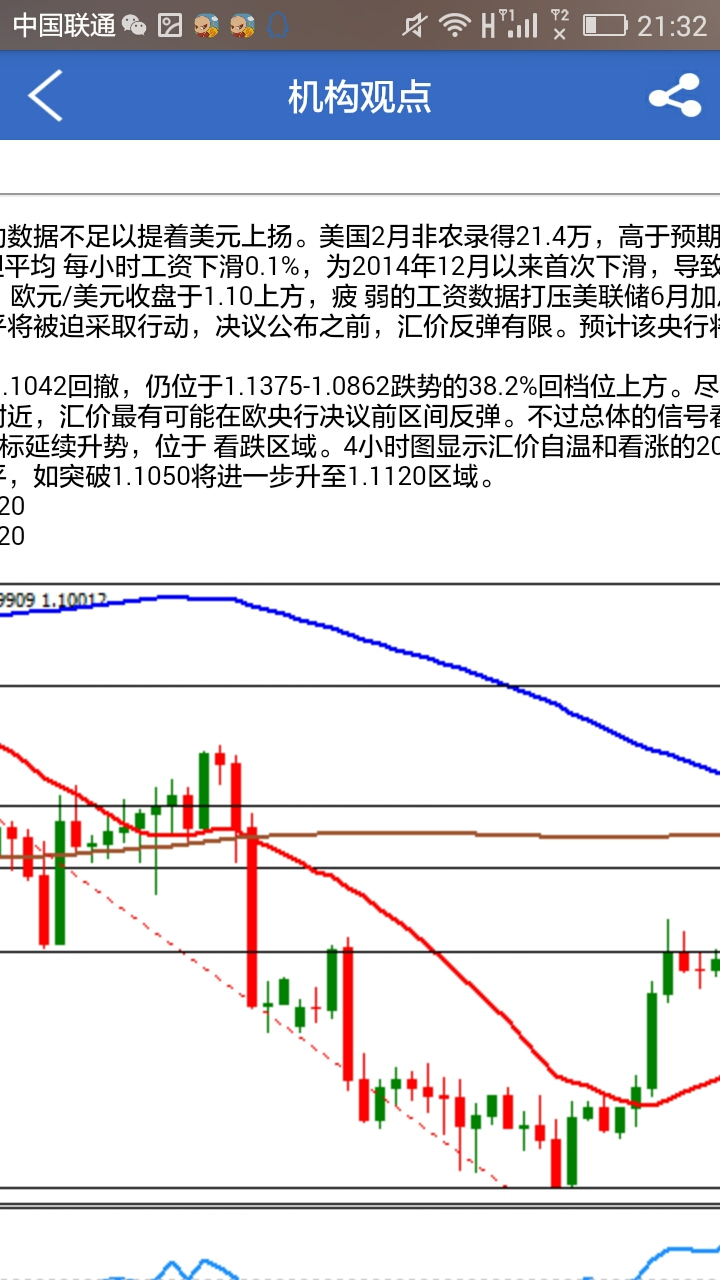imgview: (9, 595, 720, 1192)
textview: (2, 203, 720, 556)
